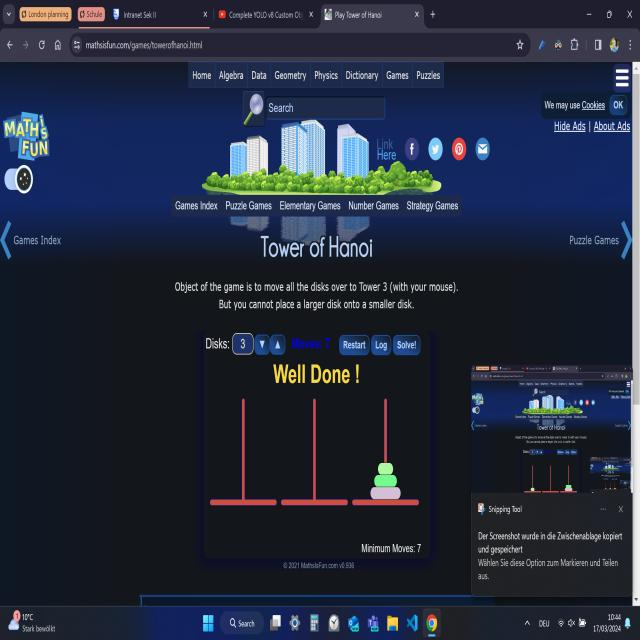disk1: (378, 462, 393, 475)
disk2: (374, 475, 397, 487)
disk3: (370, 488, 400, 500)
